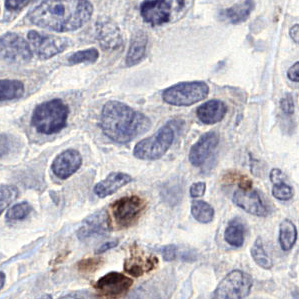Lymphocyte: (109, 193, 150, 226)
